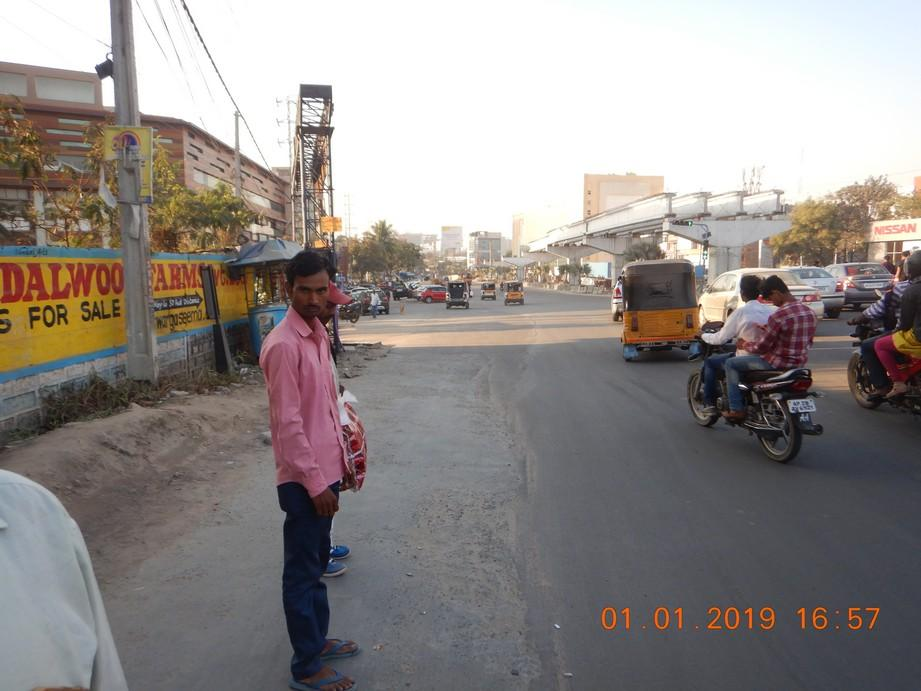plate: (786, 398, 816, 413)
